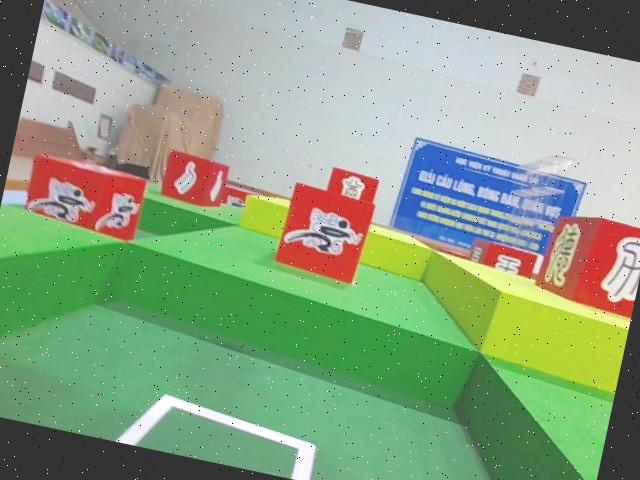R1: (18, 151, 148, 247), (273, 180, 375, 288)
R2 Fake: (532, 207, 640, 324)
R2 Real: (157, 148, 232, 212)
